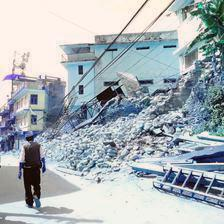Destroyed_Building: (0, 25, 224, 214)
